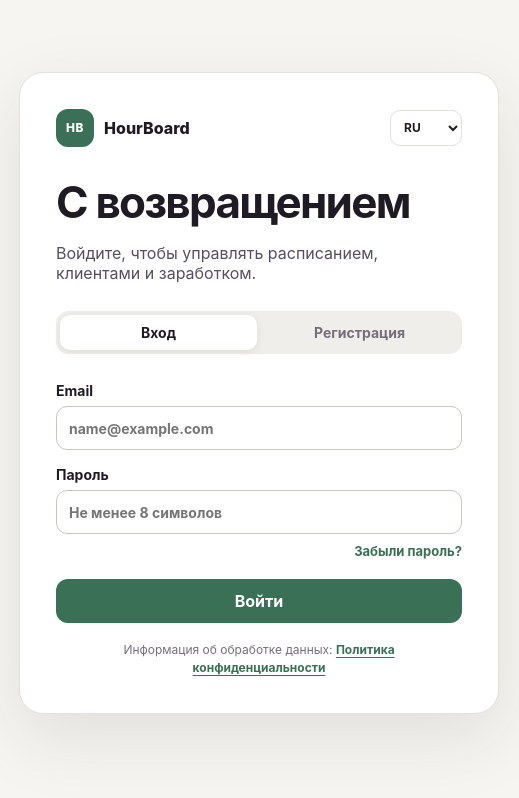
it: LoginPage › validates matching passwords before registration
This screenshot has width=519, height=798.
Click the button "Регистрация" at (360, 333), box x1=261 y1=315 x2=458 y2=350
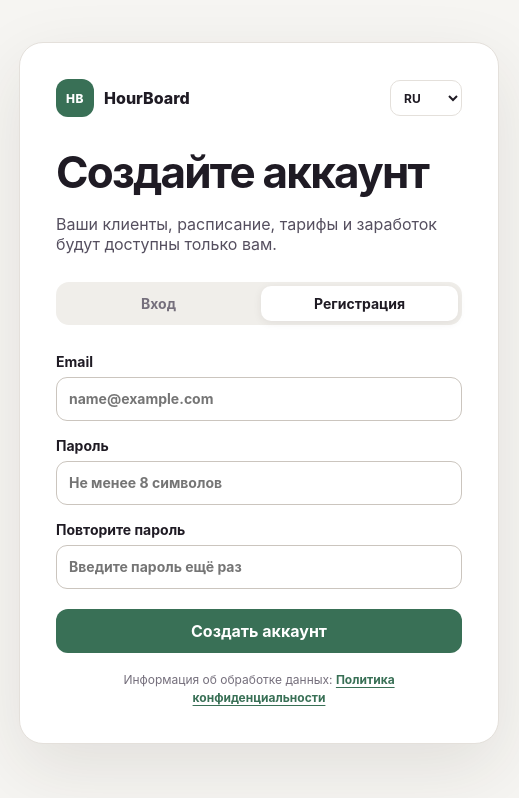
Type "new@example.com" into the field labelled "Email" at (259, 399), box x1=56 y1=377 x2=462 y2=421
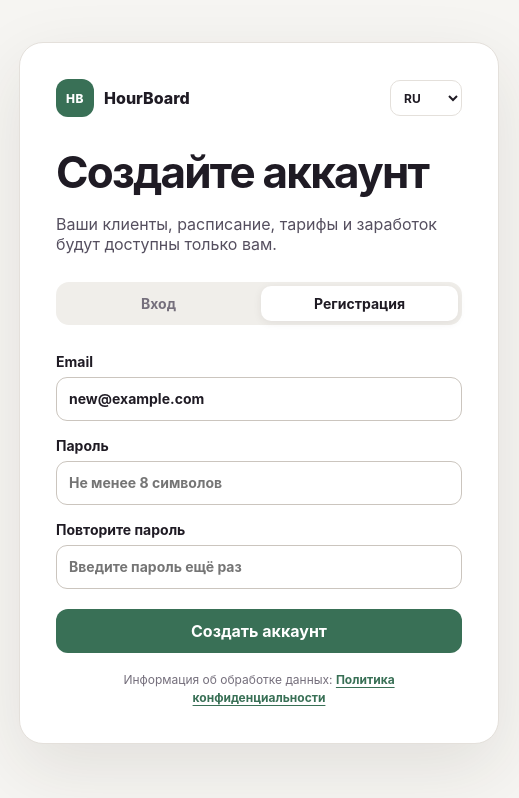
Type "password123" into the password field labelled "Пароль" at (259, 483), box x1=56 y1=461 x2=462 y2=505
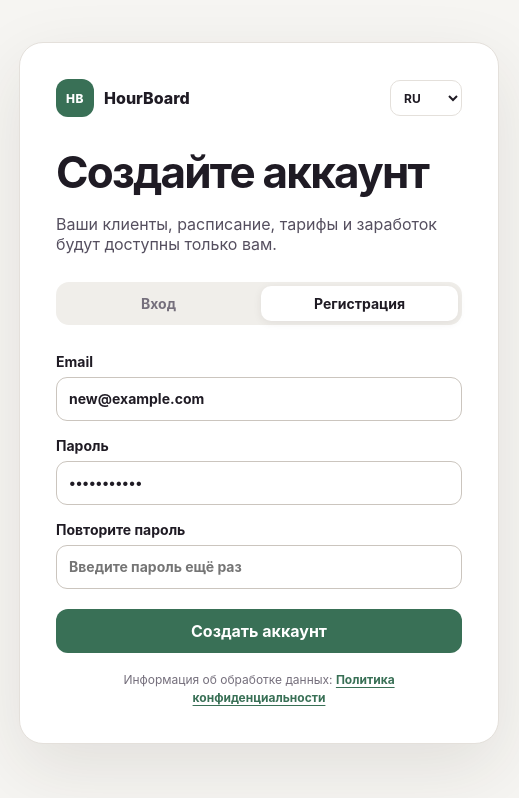
Type "different123" into the password field labelled "Повторите пароль" at (259, 567), box x1=56 y1=545 x2=462 y2=589
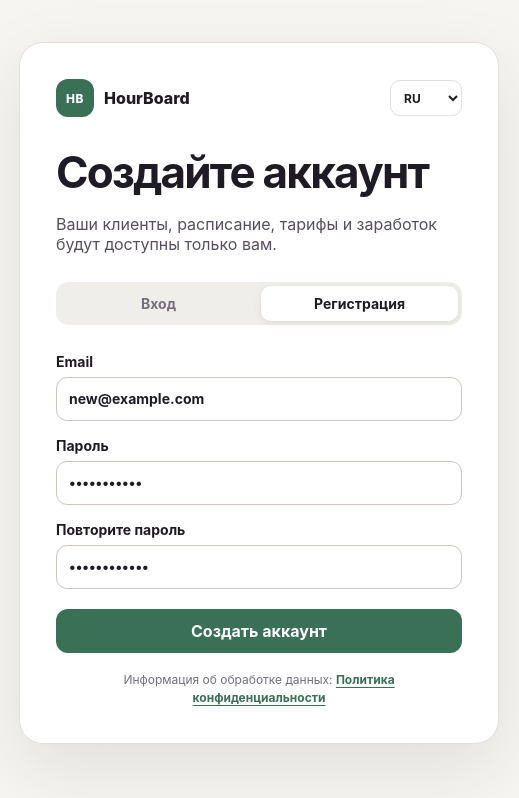
Click the button "Создать аккаунт" at (259, 631), box x1=56 y1=609 x2=462 y2=653
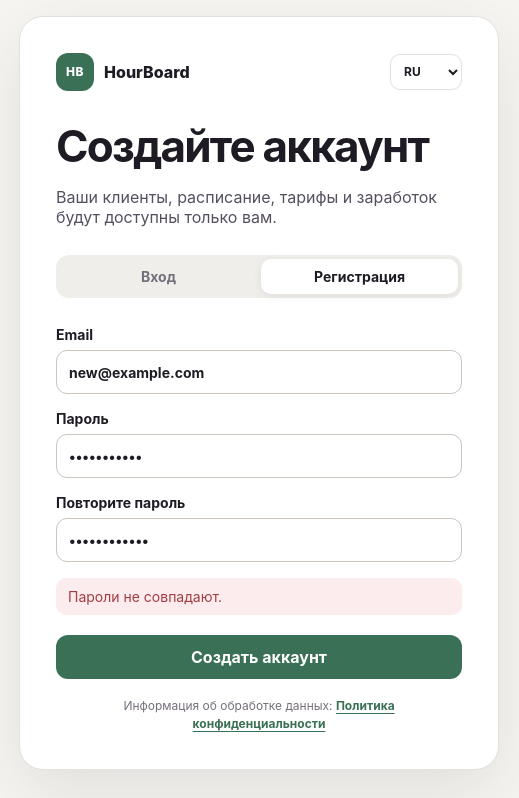
Result: the message reads "Пароли не совпадают." at x1=68 y1=588 x2=222 y2=605
